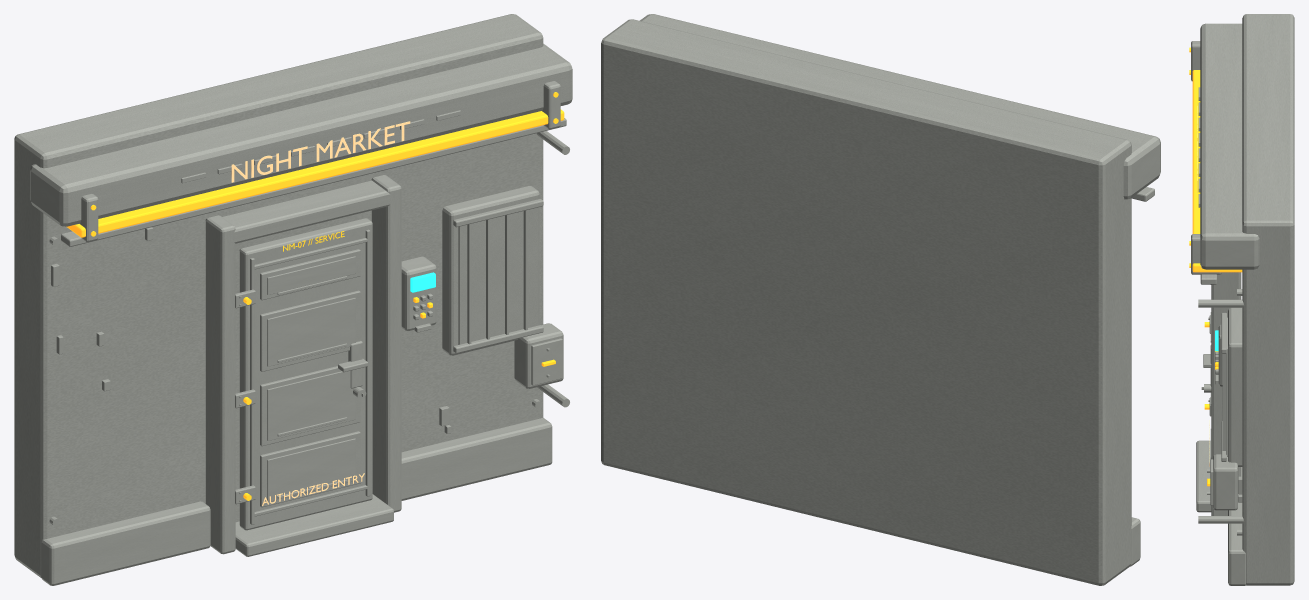
File: night_market_hero.glb
The picture shows the model from 3 angles, left to right: view 1: azimuth 30°, elevation 25°; view 2: azimuth 150°, elevation 25°; view 3: azimuth 270°, elevation 25°; orthographic projection. The views are drawn at different scales.
Visible parts, largest first — view 1: ENV_NM_Export_weathered_concrete, ENV_NM_Export_blackened_steel, ENV_NM_Export_brushed_steel, ENV_NM_Export_oxide_teal_paint, ENV_NM_Export_amber_emissive, ENV_NM_Export_smoked_glass, ENV_NM_Export_gasket_rubber, ENV_NM_Export_warm_signage, ENV_NM_Export_rust; view 2: ENV_NM_Export_weathered_concrete, ENV_NM_Export_blackened_steel; view 3: ENV_NM_Export_weathered_concrete, ENV_NM_Export_blackened_steel, ENV_NM_Export_brushed_steel, ENV_NM_Export_amber_emissive, ENV_NM_Export_oxide_teal_paint, ENV_NM_Export_smoked_glass.
Boxes of the visible parts, <box> form: ENV_NM_Export_weathered_concrete: <box>14,14,543,577</box>; ENV_NM_Export_blackened_steel: <box>30,43,572,585</box>; ENV_NM_Export_brushed_steel: <box>49,81,569,556</box>; ENV_NM_Export_oxide_teal_paint: <box>239,218,563,530</box>; ENV_NM_Export_amber_emissive: <box>66,92,564,500</box>; ENV_NM_Export_smoked_glass: <box>458,208,534,344</box>; ENV_NM_Export_gasket_rubber: <box>250,229,431,524</box>; ENV_NM_Export_warm_signage: <box>231,121,410,505</box>; ENV_NM_Export_rust: <box>51,227,451,433</box>; ENV_NM_Export_weathered_concrete: <box>601,19,1131,585</box>; ENV_NM_Export_blackened_steel: <box>639,14,1160,566</box>; ENV_NM_Export_weathered_concrete: <box>1242,14,1294,585</box>; ENV_NM_Export_blackened_steel: <box>1200,23,1259,585</box>; ENV_NM_Export_brushed_steel: <box>1191,41,1244,535</box>; ENV_NM_Export_amber_emissive: <box>1189,47,1242,486</box>; ENV_NM_Export_oxide_teal_paint: <box>1213,454,1237,510</box>; ENV_NM_Export_smoked_glass: <box>1226,317,1227,456</box>.
Size of what is drawn, in the model's own units: 4.08 by 3.24 by 0.847.
Materials: 10 (8 with a texture image).
